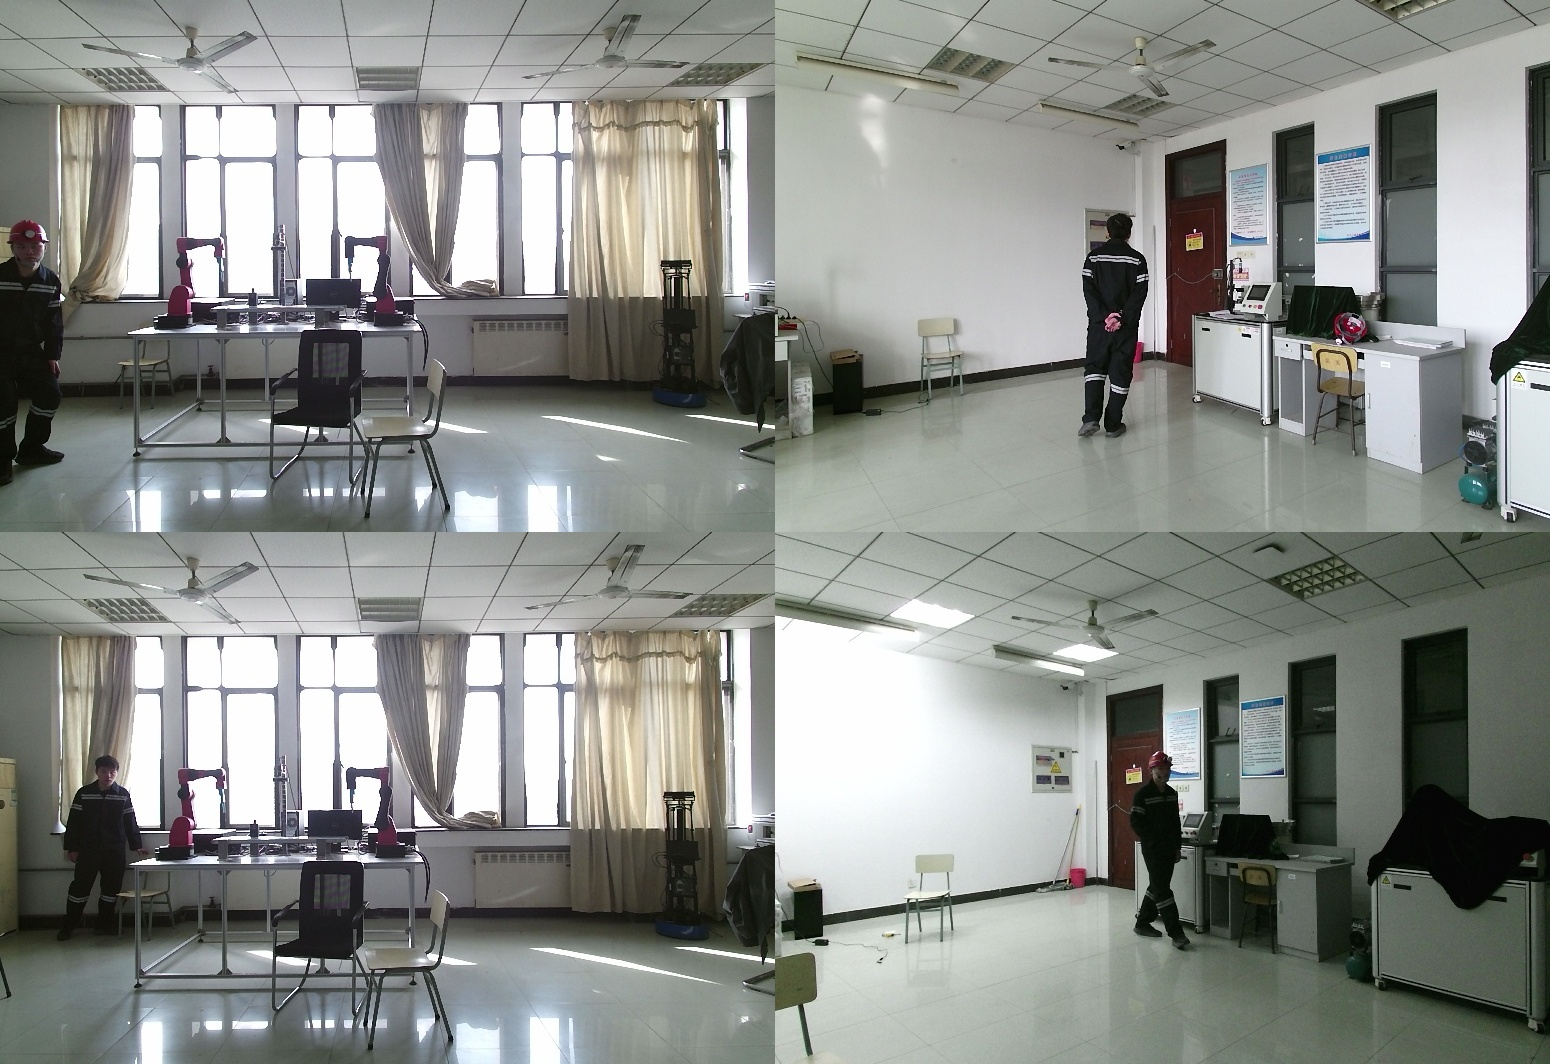person: (2, 224, 79, 481), (1074, 213, 1157, 440), (59, 756, 146, 941), (1121, 751, 1189, 948)
